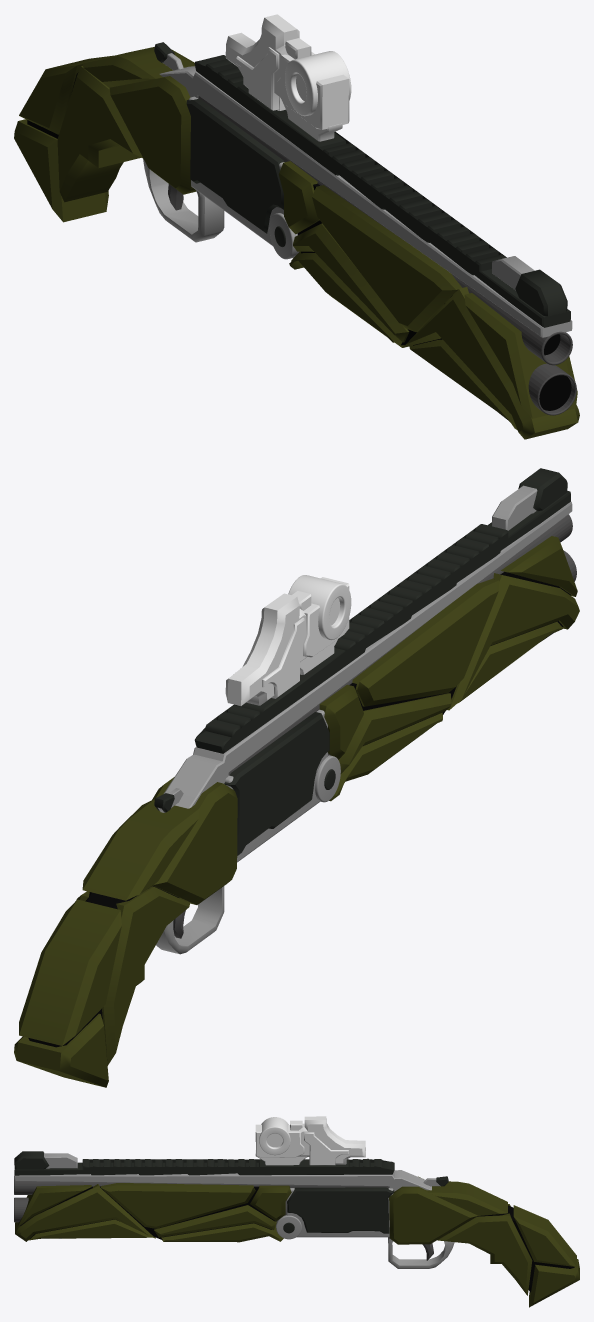
3 views of the same model, one above another, from view 1: azimuth 30°, elevation 25°; view 2: azimuth 150°, elevation 25°; view 3: azimuth 270°, elevation 25° (orthographic). The views are drawn at different scales.
Parts seen in each view (by area): view 1: decoPieces, dPieces, supClor2, bxOut, supClor1, tubes, triggerplate, boxGrand, scopeSupport, scroll, cOut, scopeSupportOut (+5 smaller); view 2: dPieces, decoPieces, supClor2, supClor1, bxOut, scopeSupport, scroll, triggerplate, tubes, scopeSupportOut, cIn, boxGrand (+3 smaller); view 3: decoPieces, dPieces, supClor2, bxOut, supClor1, scopeSupport, tubes, boxGrand, scroll, scopeSupportOut, triggerplate, bxIn (+6 smaller).
Boxes of the visible parts, x1,y1,x2,y2 form: decoPieces: [278, 161, 579, 439]; dPieces: [14, 47, 196, 222]; supClor2: [194, 55, 570, 327]; bxOut: [186, 99, 284, 233]; supClor1: [159, 66, 572, 337]; tubes: [198, 96, 576, 415]; triggerplate: [143, 158, 224, 242]; boxGrand: [277, 52, 349, 129]; scopeSupport: [225, 14, 325, 129]; scroll: [285, 51, 351, 116]; cOut: [515, 269, 567, 316]; scopeSupportOut: [236, 47, 279, 110]; dPieces: [14, 777, 237, 1087]; decoPieces: [319, 536, 579, 801]; supClor2: [194, 491, 570, 753]; supClor1: [163, 501, 572, 808]; bxOut: [224, 712, 329, 855]; scopeSupport: [225, 593, 306, 705]; scroll: [288, 575, 351, 640]; triggerplate: [156, 886, 224, 954]; tubes: [228, 514, 576, 775]; scopeSupportOut: [262, 617, 304, 698]; cIn: [492, 485, 537, 530]; boxGrand: [303, 577, 349, 657]; decoPieces: [15, 1183, 291, 1242]; dPieces: [389, 1176, 579, 1307]; supClor2: [14, 1158, 394, 1175]; bxOut: [287, 1187, 394, 1233]; supClor1: [14, 1170, 431, 1191]; scopeSupport: [298, 1116, 365, 1164]; tubes: [14, 1176, 388, 1222]; boxGrand: [255, 1124, 304, 1157]; scroll: [259, 1117, 290, 1155]; scopeSupportOut: [304, 1132, 348, 1165]; triggerplate: [388, 1237, 454, 1268]; bxIn: [286, 1188, 393, 1237].
Bounding box in the file's own units: 42.8 × 245 × 683.
